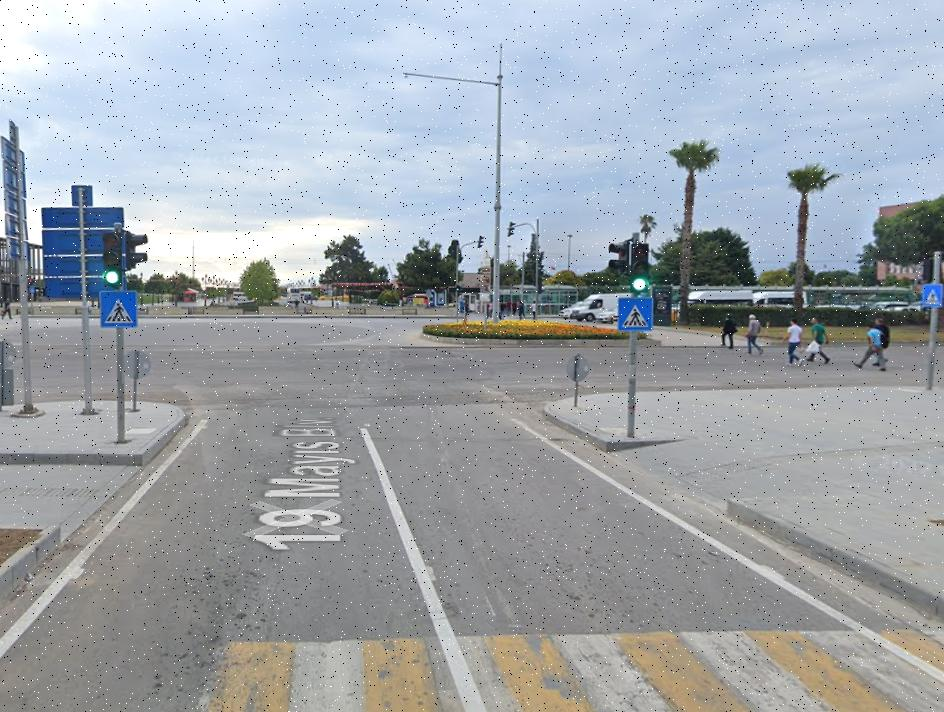greenlight: (102, 235, 123, 286), (633, 241, 648, 293)
